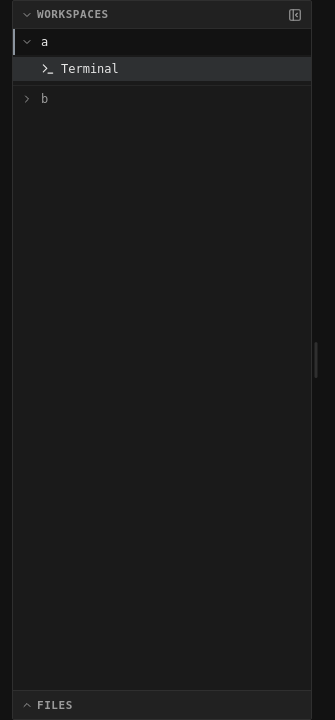
Test case: WorkspaceSidebar global width › keeps navigator expansion while collapsed to the rail
Click the button named "Expand b".
click(27, 99)  # box x1=17 y1=89 x2=37 y2=109
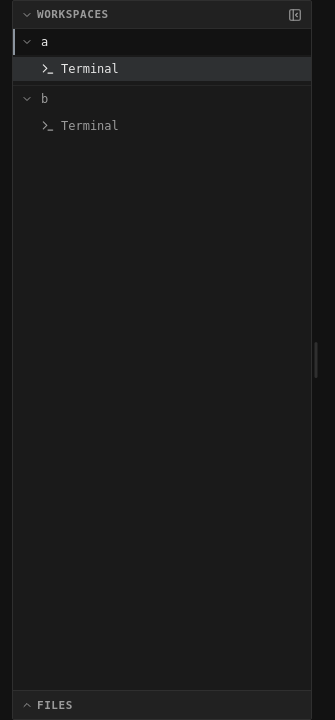
Now the button named "Collapse b" is shown, box x1=17 y1=89 x2=37 y2=109
